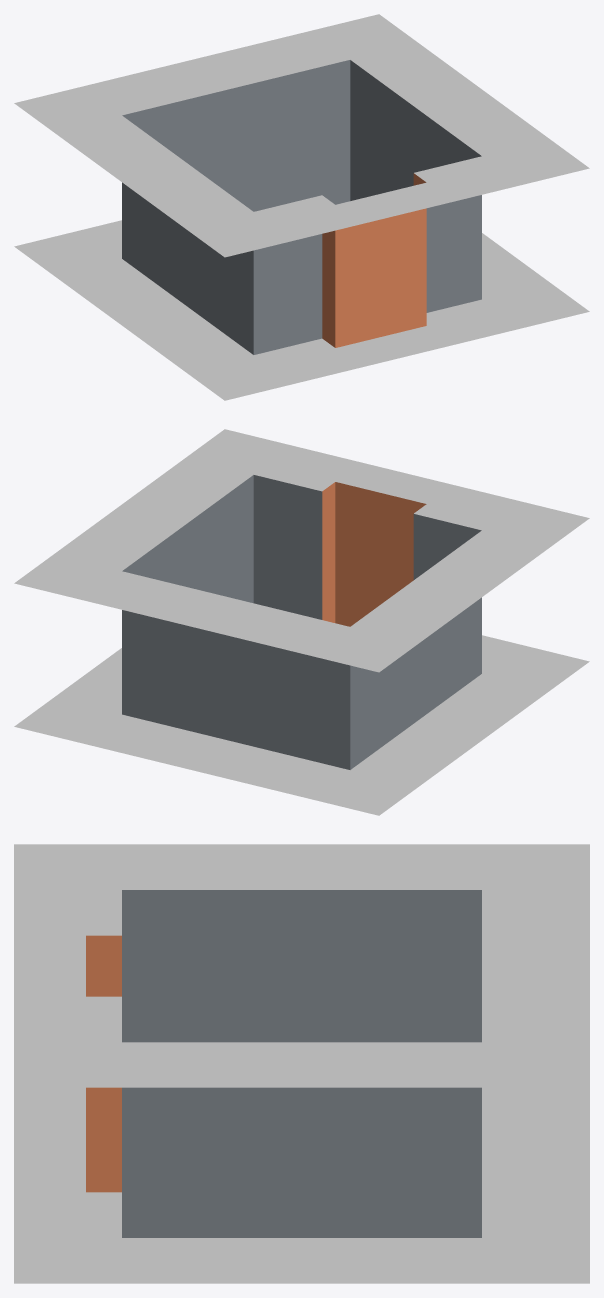
File: cell_351.obj
The picture shows the model from 3 angles, top to bottom: view 1: azimuth 30°, elevation 25°; view 2: azimuth 150°, elevation 25°; view 3: azimuth 270°, elevation 25°; orthographic projection. The views are drawn at different scales.
Size of the model in its own units: 1 by 0.375 by 1.
